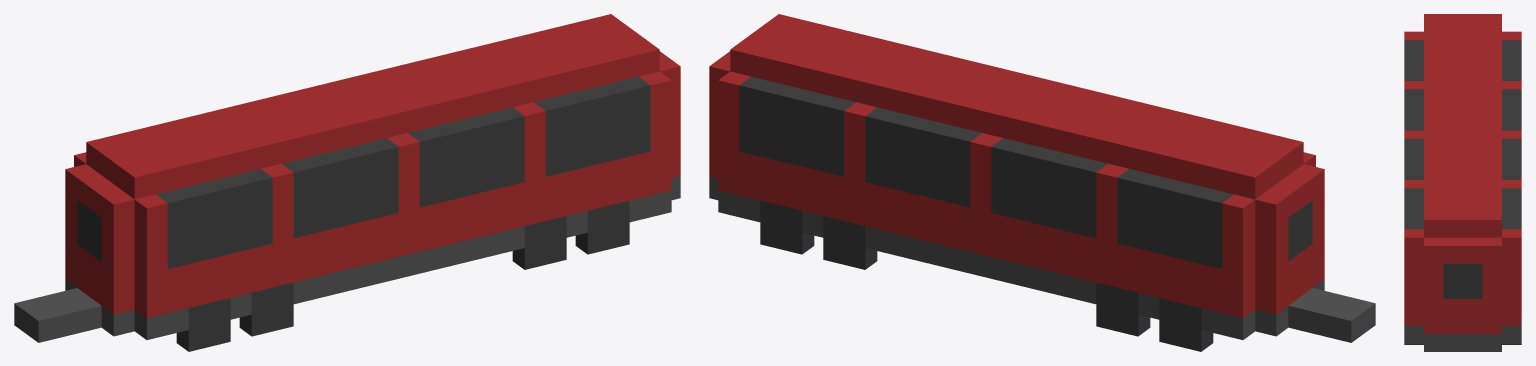
The model's file is train-trailer-v2-red.gltf.
3 renders of one model, left to right at view 1: azimuth 30°, elevation 25°; view 2: azimuth 150°, elevation 25°; view 3: azimuth 270°, elevation 25°, orthographic. The views are drawn at different scales.
Parts seen in each view (by area): view 1: model, wheels; view 2: model, wheels; view 3: model.
Part boxes in pixels (bbox=[...]): model: bbox=[14, 14, 680, 342]; wheels: bbox=[176, 200, 629, 351]; model: bbox=[709, 14, 1375, 342]; wheels: bbox=[760, 200, 1213, 351]; model: bbox=[1404, 14, 1521, 351].
Bounding box in the file's own units: 3 × 0.8 × 0.6.
2 materials, 2 textured.
